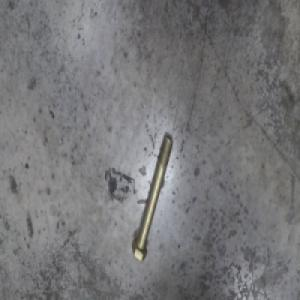Bolt: (131, 120, 173, 259)
